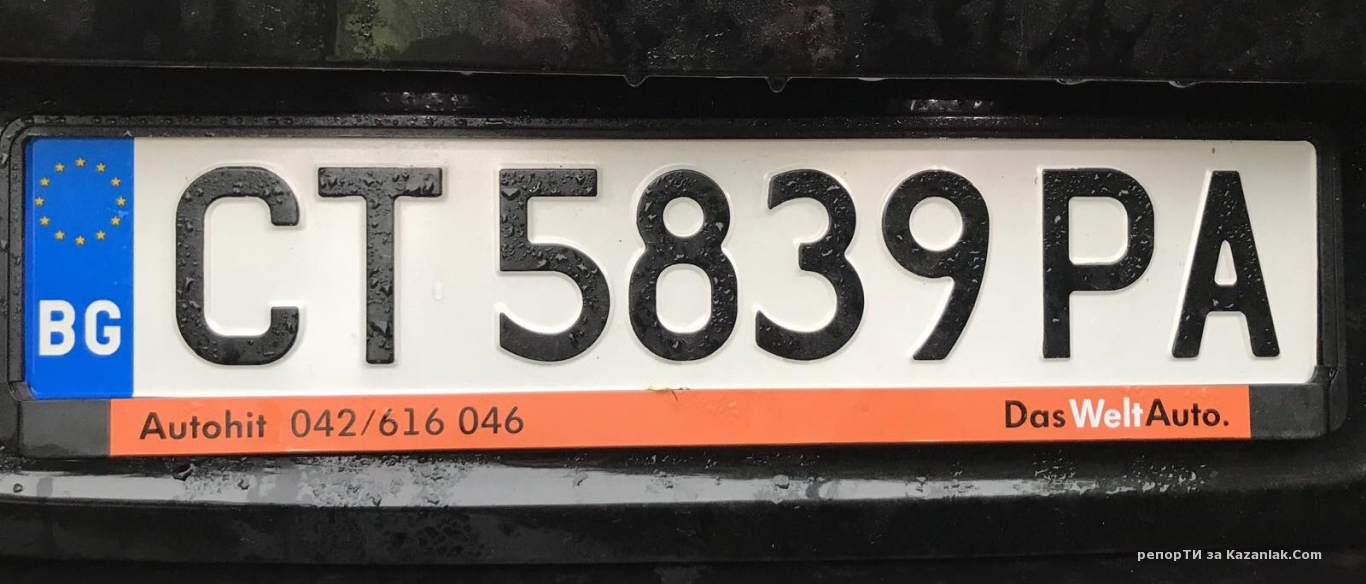registration_plate: (170, 119, 1298, 407)
